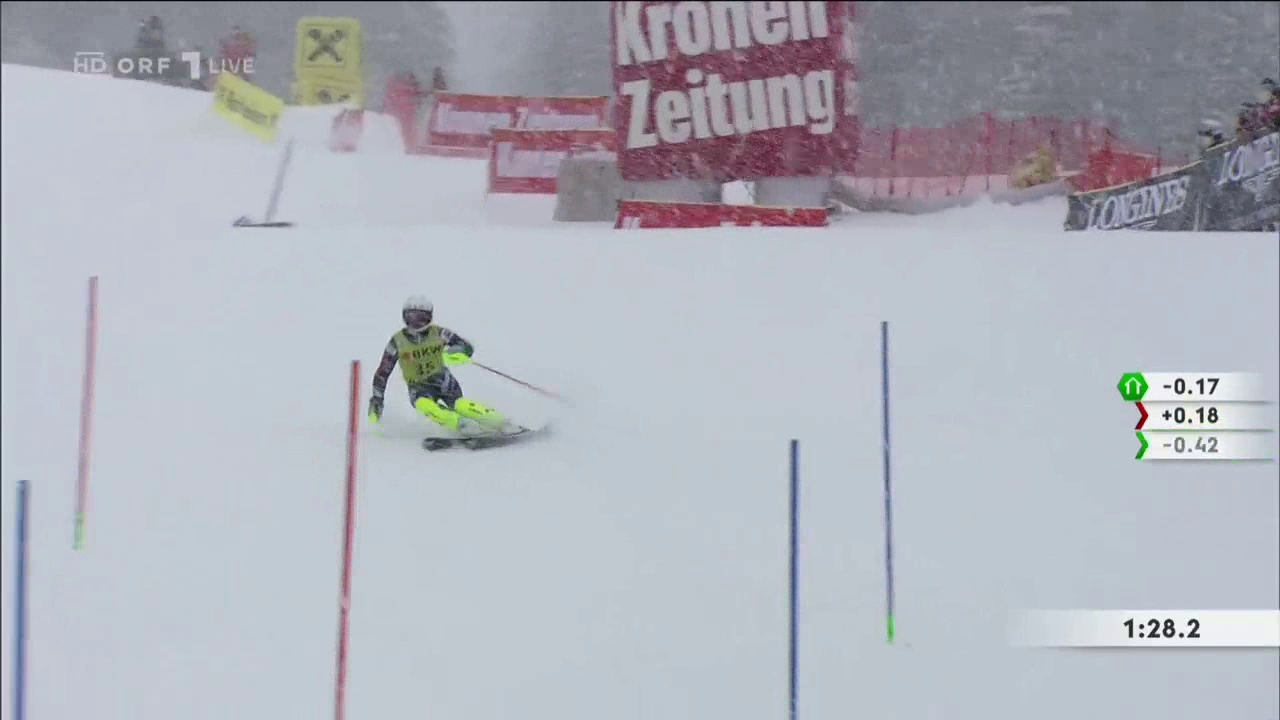kronenzeitung: (613, 12, 828, 164), (426, 98, 615, 142)
raiffeisen: (211, 76, 279, 133), (303, 24, 351, 71)
